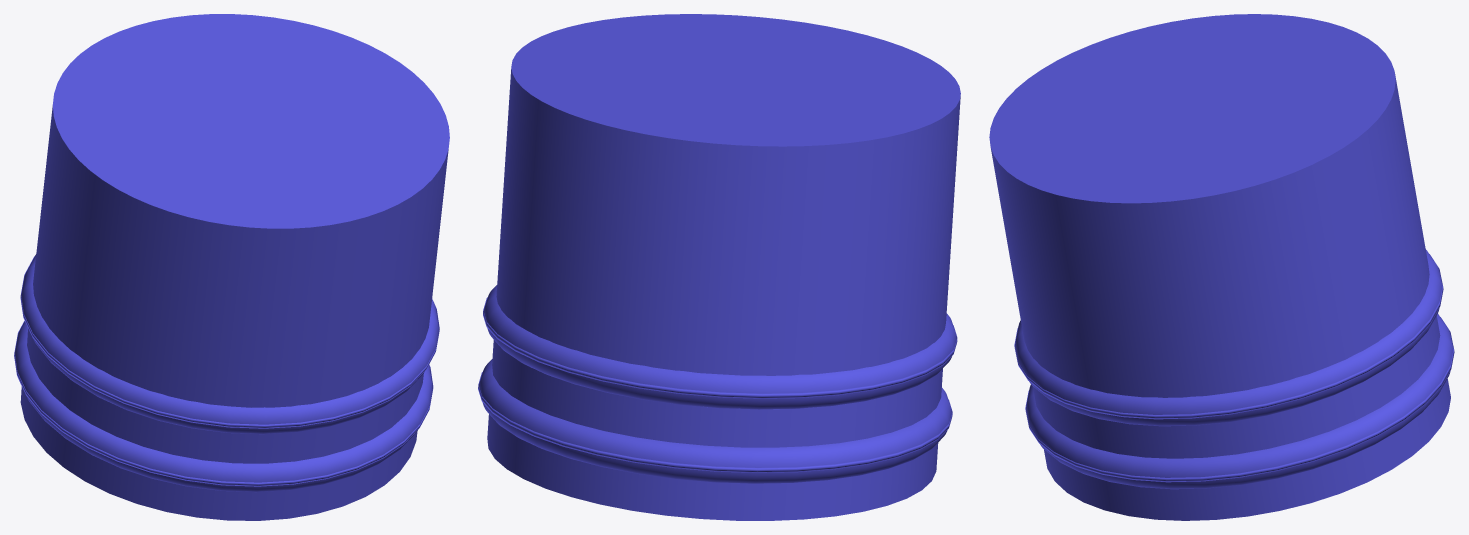
Rendered from bombilla225.obj.
The picture shows the model from 3 angles, left to right: view 1: azimuth 30°, elevation 25°; view 2: azimuth 150°, elevation 25°; view 3: azimuth 270°, elevation 25°; orthographic projection. The views are drawn at different scales.
Visible parts, largest first — view 1: Cylinder001, Cylinder004, Cylinder002, Cylinder003, Cylinder006; view 2: Cylinder001, Cylinder004, Cylinder003, Cylinder006, Cylinder002; view 3: Cylinder001, Cylinder004, Cylinder003, Cylinder002, Cylinder006.
Boxes of the visible parts, bbox=[...] form: Cylinder001: bbox=[33, 14, 449, 407]; Cylinder004: bbox=[14, 321, 433, 492]; Cylinder002: bbox=[20, 254, 439, 434]; Cylinder003: bbox=[27, 328, 423, 463]; Cylinder006: bbox=[20, 386, 417, 520]; Cylinder001: bbox=[496, 14, 960, 375]; Cylinder004: bbox=[478, 359, 952, 483]; Cylinder003: bbox=[492, 340, 942, 447]; Cylinder006: bbox=[487, 414, 938, 520]; Cylinder002: bbox=[483, 285, 957, 409]; Cylinder001: bbox=[989, 14, 1429, 397]; Cylinder004: bbox=[1025, 313, 1454, 489]; Cylinder003: bbox=[1033, 315, 1440, 458]; Cylinder002: bbox=[1014, 249, 1443, 426]; Cylinder006: bbox=[1044, 379, 1450, 520].
Bounding box in the file's own units: 72.45 × 69.5 × 77.44.
